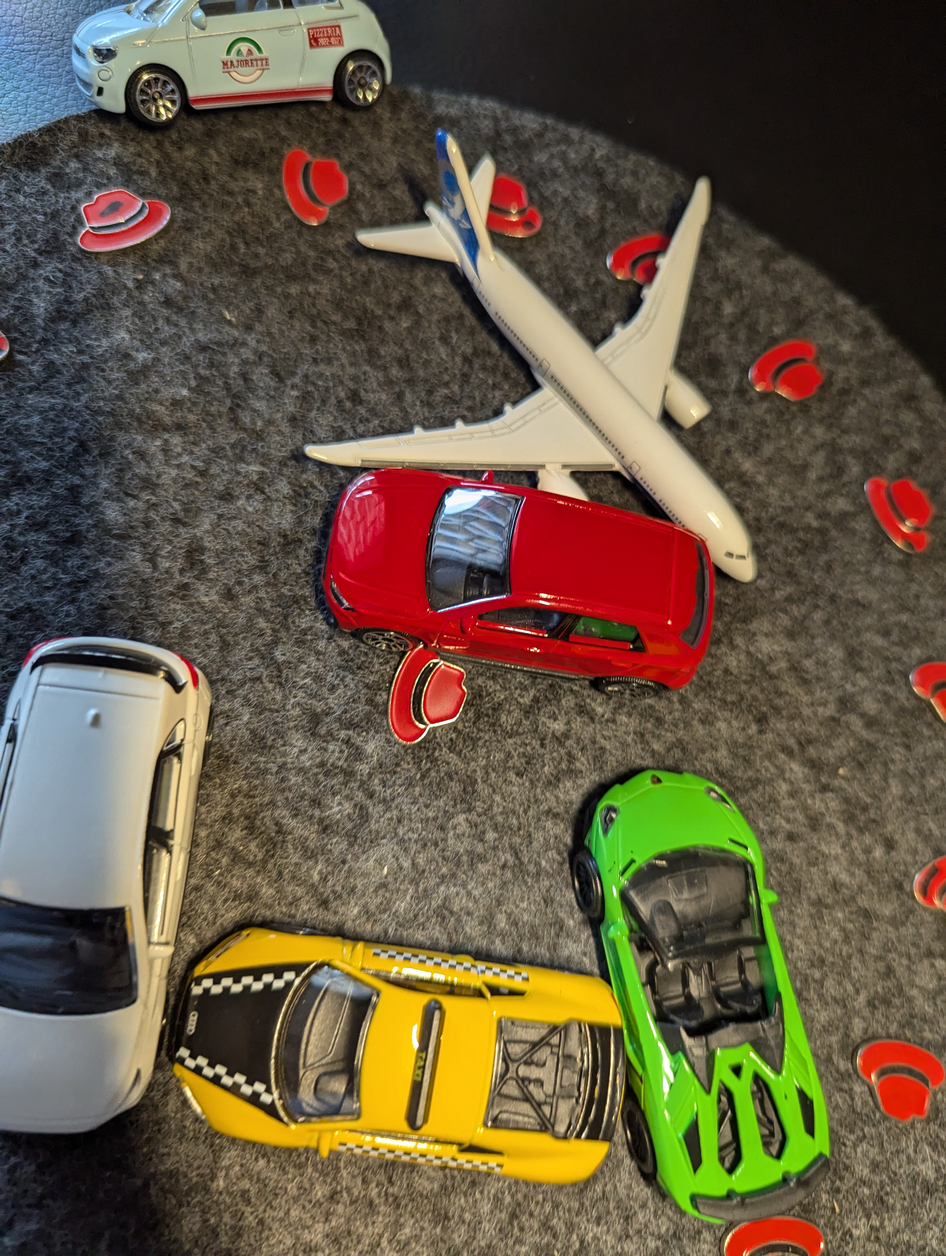Airplane: (287, 131, 782, 597)
Car: (552, 754, 866, 1241), (155, 894, 632, 1211), (0, 617, 248, 1155), (305, 449, 724, 715), (38, 0, 436, 116)
Red-Hat: (378, 631, 504, 746), (838, 1014, 946, 1137), (69, 170, 192, 266), (455, 152, 564, 248), (265, 129, 361, 232), (851, 463, 944, 564), (745, 323, 837, 418), (586, 210, 688, 292)
Scratch: (890, 527, 929, 568), (92, 194, 130, 220), (518, 211, 542, 239)
